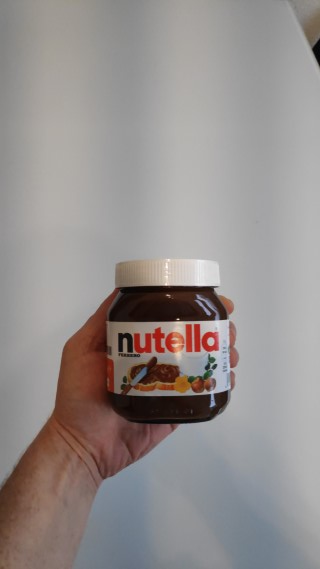nutella: (103, 255, 233, 425)
